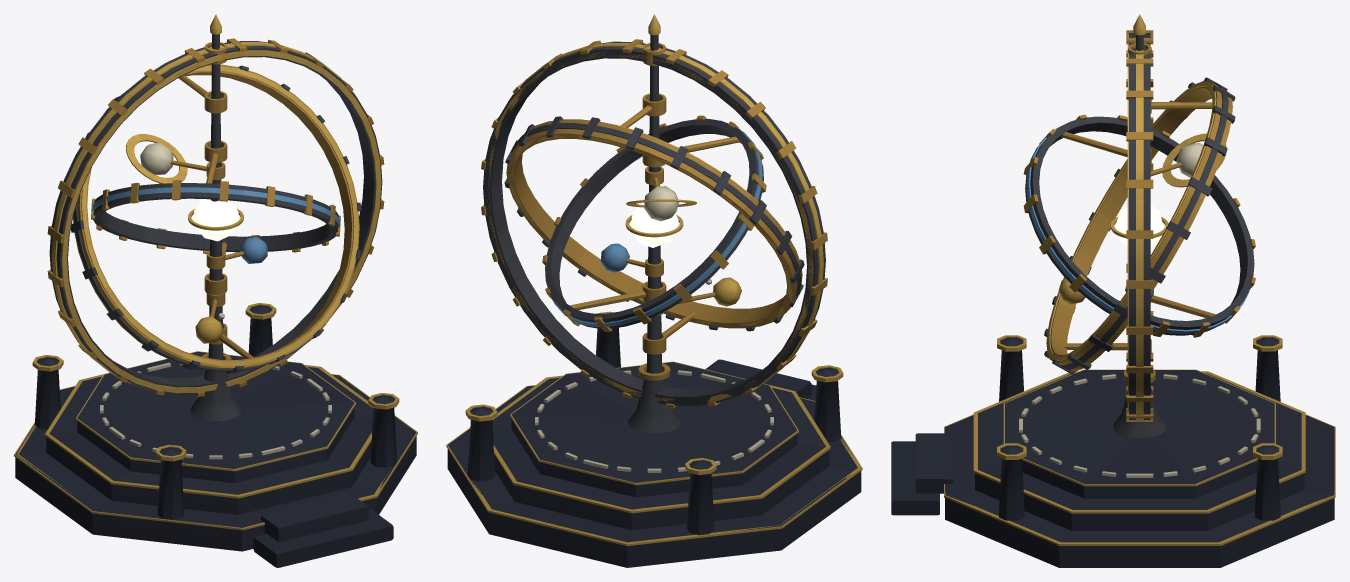
File: orrery.glb
The picture shows the model from 3 angles, left to right: view 1: azimuth 30°, elevation 25°; view 2: azimuth 150°, elevation 25°; view 3: azimuth 270°, elevation 25°; orthographic projection. The views are drawn at different scales.
Visible parts, largest first — view 1: plinth, ringA, ringB, ringC, arm2, sun, arm1, arm3; view 2: plinth, ringA, ringB, ringC, arm2, sun, arm1, arm3; view 3: plinth, ringB, ringA, ringC, arm2, sun.
Part boxes in pixels (bbox=[...]): plinth: bbox=[14, 14, 417, 567]; ringA: bbox=[47, 38, 384, 396]; ringB: bbox=[71, 64, 361, 373]; ringC: bbox=[91, 140, 340, 294]; arm2: bbox=[126, 134, 225, 183]; sun: bbox=[188, 199, 243, 241]; arm1: bbox=[206, 236, 267, 269]; arm3: bbox=[195, 293, 225, 343]; plinth: bbox=[446, 14, 862, 567]; ringA: bbox=[481, 39, 827, 408]; ringB: bbox=[504, 93, 804, 354]; ringC: bbox=[542, 115, 766, 331]; arm2: bbox=[626, 166, 696, 221]; sun: bbox=[625, 204, 683, 247]; arm1: bbox=[600, 243, 663, 277]; arm3: bbox=[645, 277, 741, 315]; plinth: bbox=[891, 14, 1335, 567]; ringB: bbox=[1044, 77, 1235, 374]; ringA: bbox=[1126, 30, 1153, 421]; ringC: bbox=[1023, 114, 1255, 337]; arm2: bbox=[1150, 133, 1226, 187]; sun: bbox=[1110, 205, 1168, 246].
Size of the model in its own units: 7.25 by 9.63 by 8.23.
